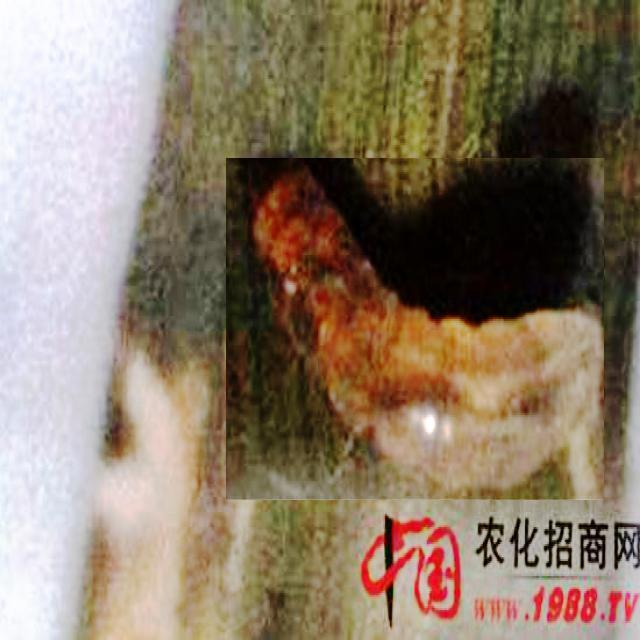whorl-maggot: (226, 159, 604, 499)
